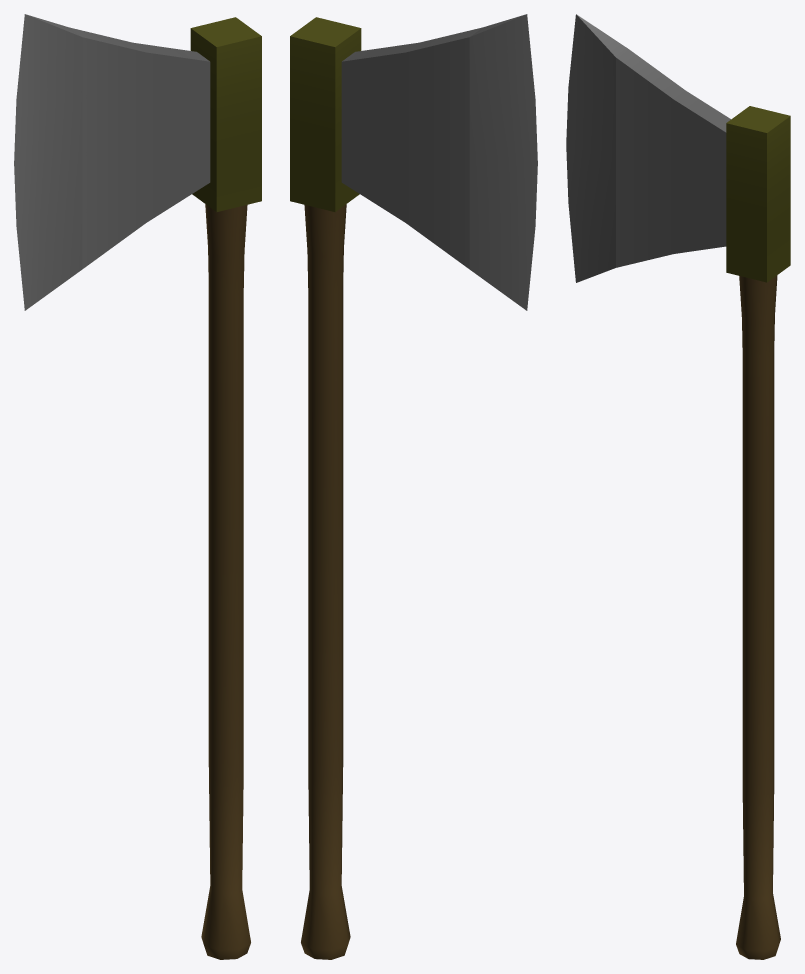
Rendered from ki-axe.glb.
The picture shows the model from 3 angles, left to right: view 1: azimuth 30°, elevation 25°; view 2: azimuth 150°, elevation 25°; view 3: azimuth 330°, elevation 25°; orthographic projection. The views are drawn at different scales.
Parts seen in each view (by area): view 1: HumanAxe; view 2: HumanAxe; view 3: HumanAxe.
Boxes of the visible parts, x1=… form: HumanAxe: x1=14, y1=14, x2=261, y2=959; HumanAxe: x1=290, y1=14, x2=537, y2=959; HumanAxe: x1=566, y1=14, x2=790, y2=959.
Size of the model in its own units: 0.3238 by 1.3 by 0.0623.
Materials: 1 (1 with a texture image).
